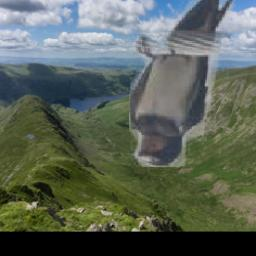Swallow: (129, 0, 235, 168)
